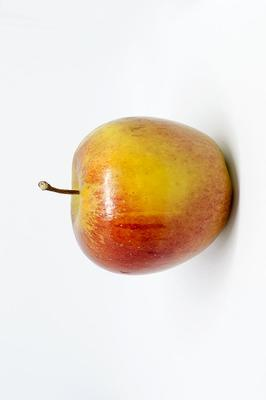apple: (0, 0, 266, 400)
